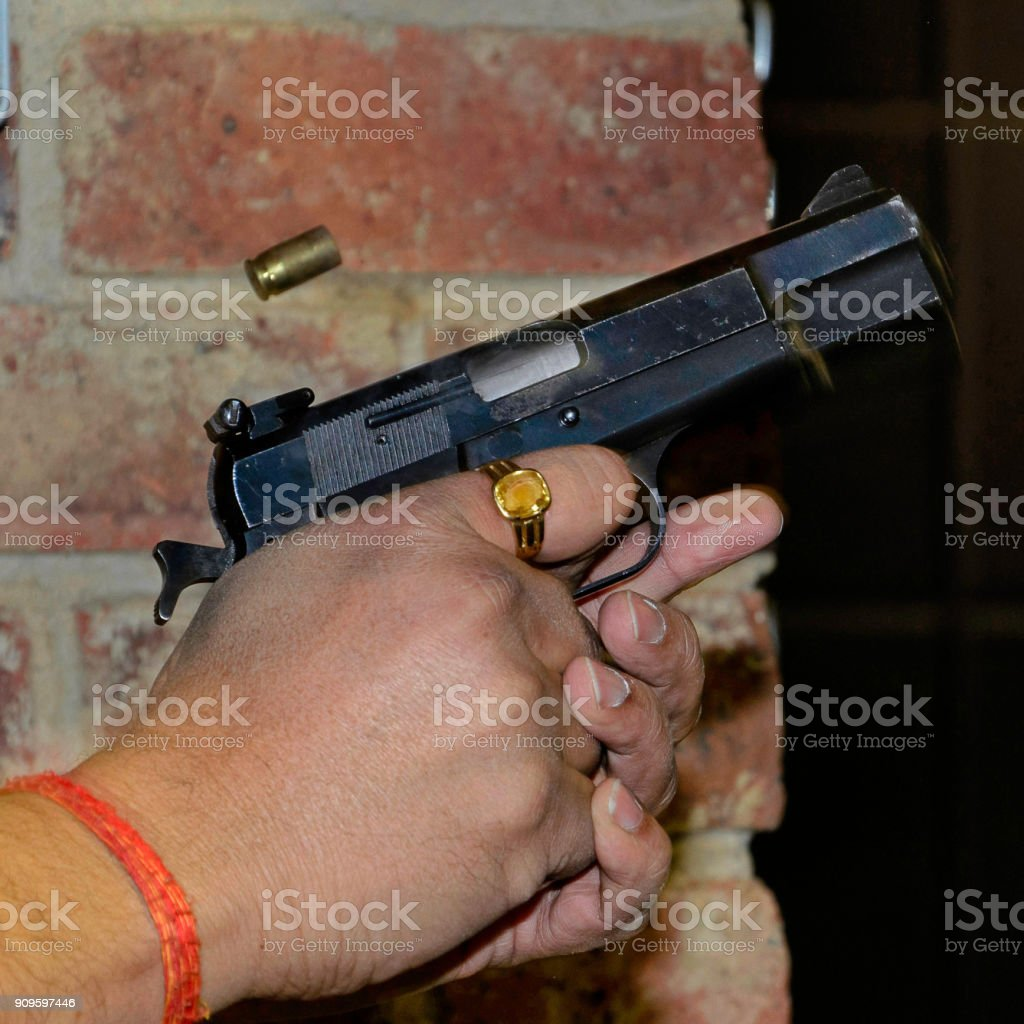gun: (171, 109, 955, 717)
